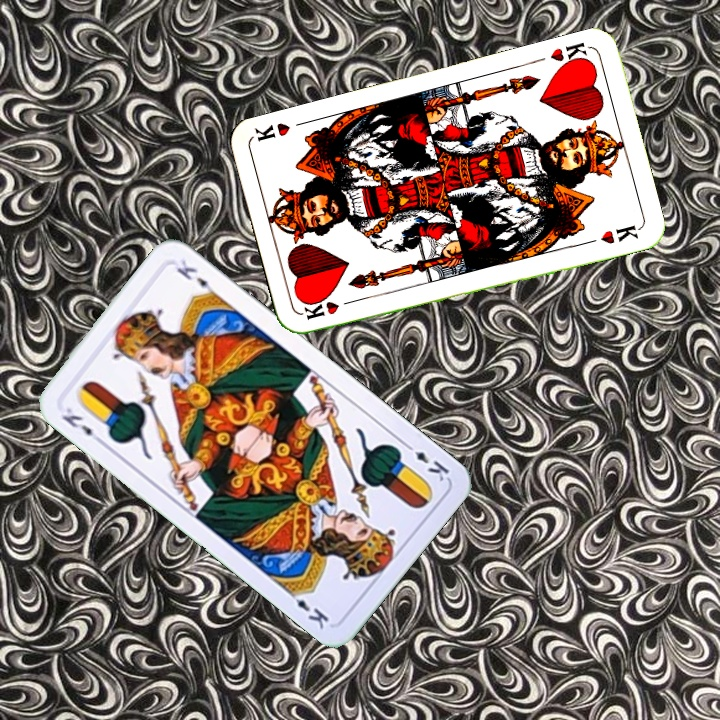EK: (400, 438, 452, 484), (57, 403, 106, 447)
HK: (299, 295, 359, 323), (546, 38, 593, 72)
